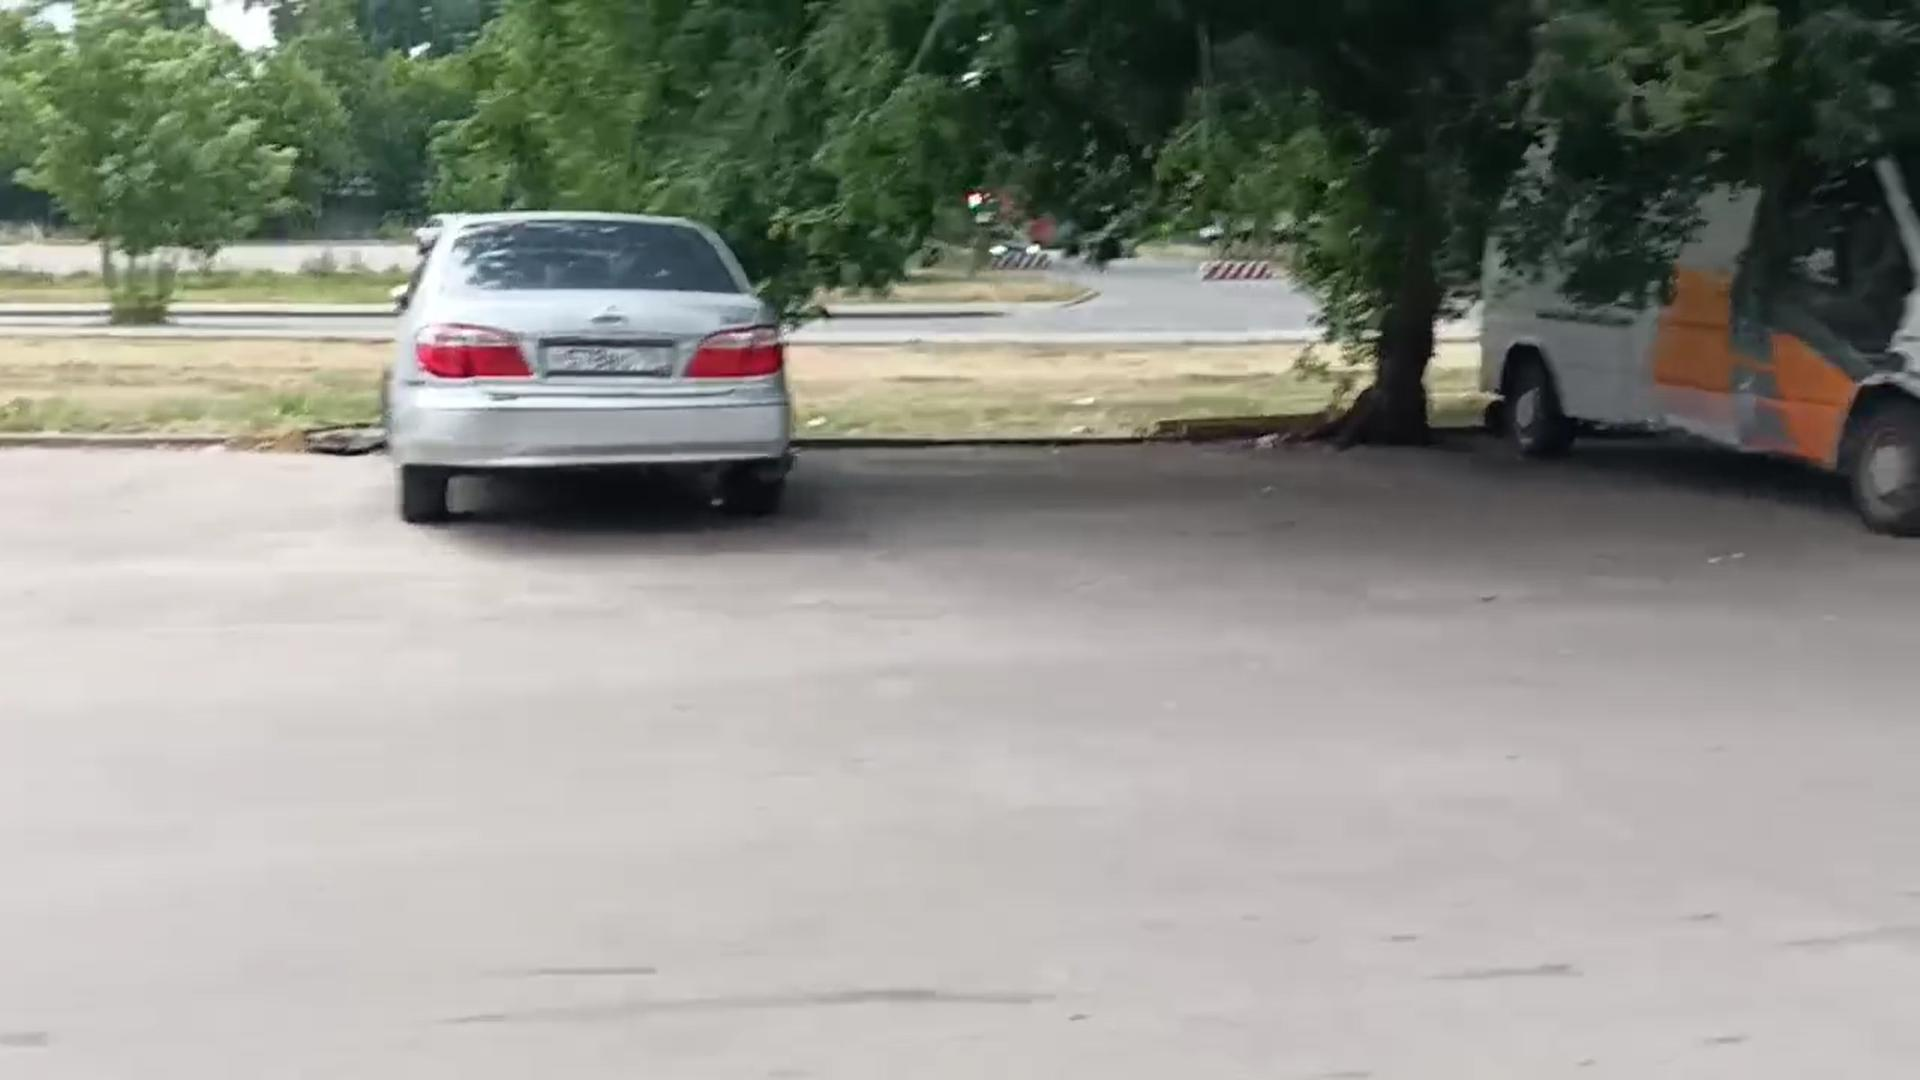plate: (543, 346, 673, 365)
